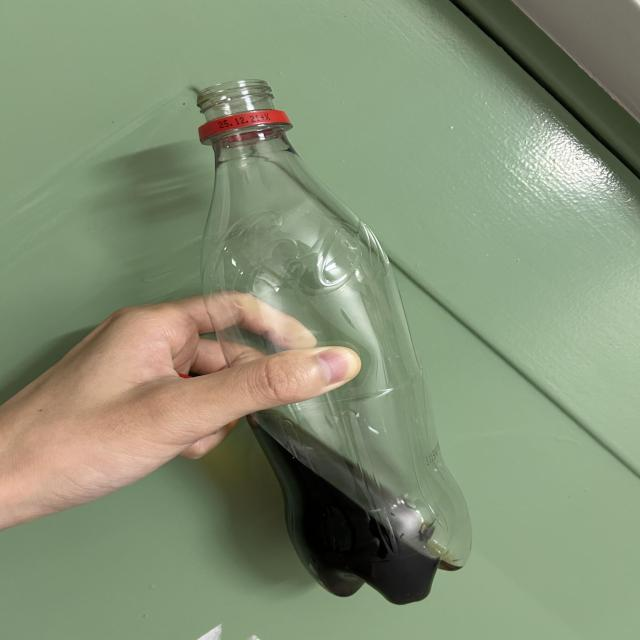low: (198, 80, 470, 604)
